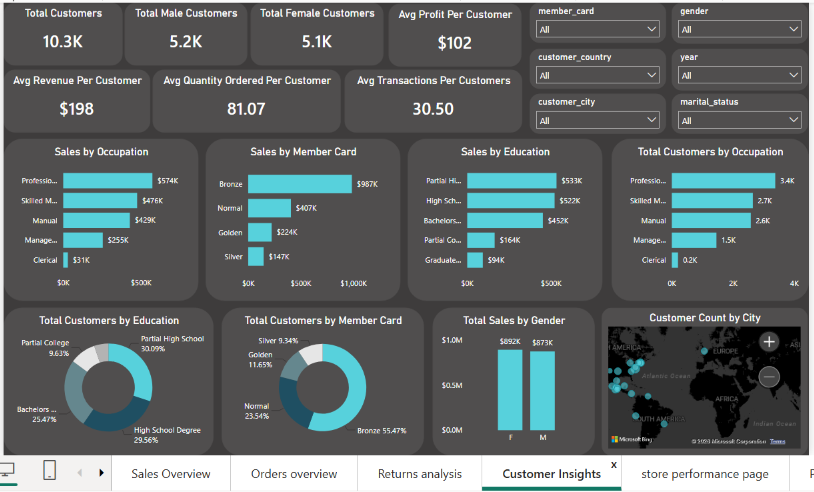

The dashboard page shown, as its layout file describes it:
{"tool":"powerbi","page":{"name":"Customer Insights","canvas":[1280,720],"ordinal":3},"visuals":[{"type":"cardVisual","title":"Total Customers","fields":{"Data":["Customers.Total customers"]},"box":[0,0,189,100.3],"z":0},{"type":"donutChart","title":"Total Customers by Member Card","fields":{"Category":["Customers.member_card"],"Y":["Customers.Total customers"]},"box":[347.5,485,322.1,235.3],"z":1000},{"type":"cardVisual","title":"Total Male Customers","fields":{"Data":["Customers.Total Male customers"]},"box":[193,0,195,100.3],"z":2000},{"type":"cardVisual","title":"Total Female Customers","fields":{"Data":["Customers.Total Female Customers"]},"box":[393,0,211,100.3],"z":3000},{"type":"cardVisual","title":"Avg Transactions Per Customers","fields":{"Data":["Measures (2).Average transactions per customer"]},"box":[541.7,106,282.5,100.3],"z":4000},{"type":"cardVisual","title":"Avg Revenue Per Customer","fields":{"Data":["Measures (2).Avg Revenue per customer"]},"box":[0,106.4,233.6,100.3],"z":5000},{"type":"cardVisual","title":"Avg Quantity Ordered Per Customer","fields":{"Data":["Customers.Avg quantity ordered per customer"]},"box":[237.2,106.4,299.6,100.3],"z":6000},{"type":"cardVisual","title":"Avg Profit Per Customer","fields":{"Data":["Customers.Avg Profit per Customer"]},"box":[612.9,1.2,211.1,100.1],"z":7000},{"type":"columnChart","title":"Total Sales by Gender","fields":{"Category":["Customers.gender"],"Y":["Measures (2).Total sales"]},"box":[682.8,485,258.2,235.3],"z":8000},{"type":"donutChart","title":"Total Customers by Education","fields":{"Category":["Customers.education"],"Y":["Customers.Total customers"]},"box":[0,485,334.2,235.3],"z":9000},{"type":"barChart","title":"Total Customers by Occupation","fields":{"Category":["Customers.occupation"],"Y":["Customers.Total customers"]},"box":[966.4,216,313.7,258.2],"z":10000},{"type":"barChart","title":"Sales by Occupation ","fields":{"Category":["Customers.occupation"],"Y":["Measures (2).Total sales"]},"box":[0,216.4,310,258],"z":11000},{"type":"barChart","title":"Sales by Member Card","fields":{"Category":["Customers.member_card"],"Y":["Measures (2).Total sales"]},"box":[321,216,310.1,258.2],"z":12000},{"type":"barChart","title":"Sales by Education","fields":{"Category":["Customers.education"],"Y":["Measures (2).Total sales"]},"box":[642,216,310,258.2],"z":13000},{"type":"slicer","fields":{"Values":["Customers.member_card"]},"box":[836.1,0,217,64],"z":14000},{"type":"slicer","fields":{"Values":["Customers.gender"]},"box":[1062.9,0,217.2,65.1],"z":15000},{"type":"slicer","fields":{"Values":["Customers.customer_country"]},"box":[836.1,72.4,217.2,64],"z":16000},{"type":"map","title":"Customer Count by City","fields":{"Category":["Customers.customer_city"],"Size":["CountNonNull(Customers.customer_id)"]},"box":[951.9,485,328.2,235.3],"z":17000},{"type":"slicer","fields":{"Values":["calendar.year"]},"box":[1062.9,72.4,217.2,66.4],"z":18000},{"type":"slicer","fields":{"Values":["Customers.customer_city"]},"box":[836.1,144.8,217.2,63.9],"z":19000},{"type":"slicer","fields":{"Values":["Customers.marital_status"]},"box":[1062.9,144.8,217.2,63.9],"z":20000}]}

Visuals, with their boxes on the page's 1280x720 design canvas (x1, y1, x2, y2). These are canvas units, not pixel positions in the 814x492 screenshot, which may show the page scaled, cropped or inside an application window:
"Total Customers" cardVisual: 0, 0, 189, 100
"Total Customers by Member Card" donutChart: 348, 485, 670, 720
"Total Male Customers" cardVisual: 193, 0, 388, 100
"Total Female Customers" cardVisual: 393, 0, 604, 100
"Avg Transactions Per Customers" cardVisual: 542, 106, 824, 206
"Avg Revenue Per Customer" cardVisual: 0, 106, 234, 207
"Avg Quantity Ordered Per Customer" cardVisual: 237, 106, 537, 207
"Avg Profit Per Customer" cardVisual: 613, 1, 824, 101
"Total Sales by Gender" columnChart: 683, 485, 941, 720
"Total Customers by Education" donutChart: 0, 485, 334, 720
"Total Customers by Occupation" barChart: 966, 216, 1280, 474
"Sales by Occupation " barChart: 0, 216, 310, 474
"Sales by Member Card" barChart: 321, 216, 631, 474
"Sales by Education" barChart: 642, 216, 952, 474
slicer - Customers.member_card: 836, 0, 1053, 64
slicer - Customers.gender: 1063, 0, 1280, 65
slicer - Customers.customer_country: 836, 72, 1053, 136
"Customer Count by City" map: 952, 485, 1280, 720
slicer - calendar.year: 1063, 72, 1280, 139
slicer - Customers.customer_city: 836, 145, 1053, 209
slicer - Customers.marital_status: 1063, 145, 1280, 209
